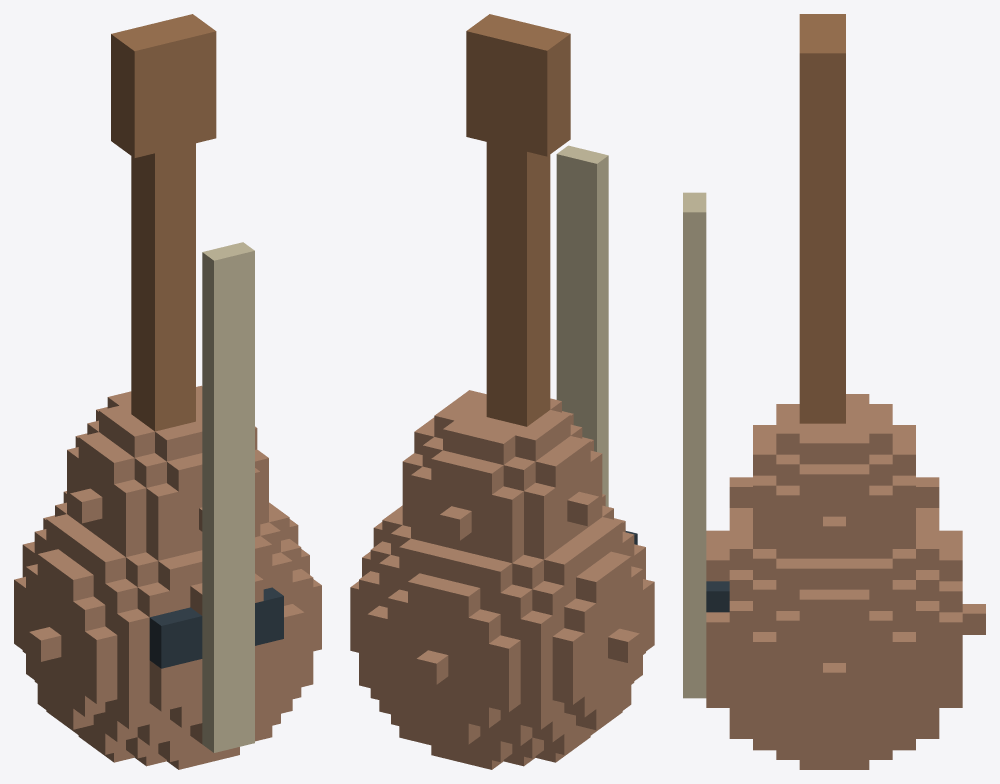
File: music-02.glb
3 views of the same model, side by side, from view 1: azimuth 30°, elevation 25°; view 2: azimuth 150°, elevation 25°; view 3: azimuth 270°, elevation 25° (orthographic).
Parts seen in each view (by area): view 1: Electric guitar; view 2: Electric guitar; view 3: Electric guitar.
Boxes of the visible parts, x1,y1,x2,y2 form: Electric guitar: (14,14,321,769); Electric guitar: (350,14,654,769); Electric guitar: (683,14,985,769).
Bounding box in the file's own units: 1.04 × 2.72 × 1.04.
